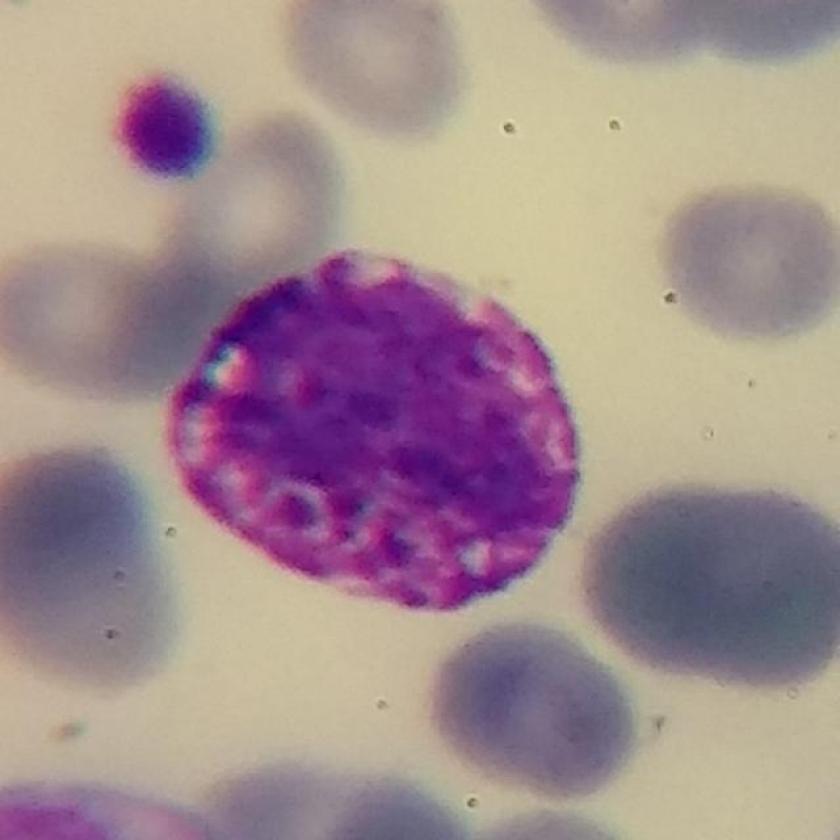basophil: (169, 235, 585, 622)
